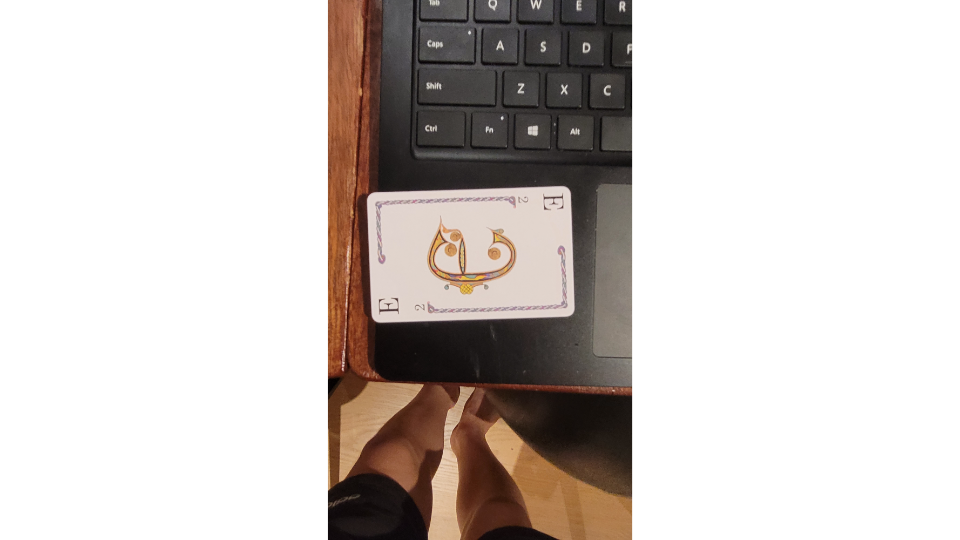E: (360, 182, 580, 325)
